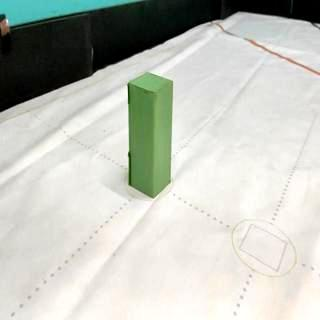greenbox: (126, 73, 173, 197)
